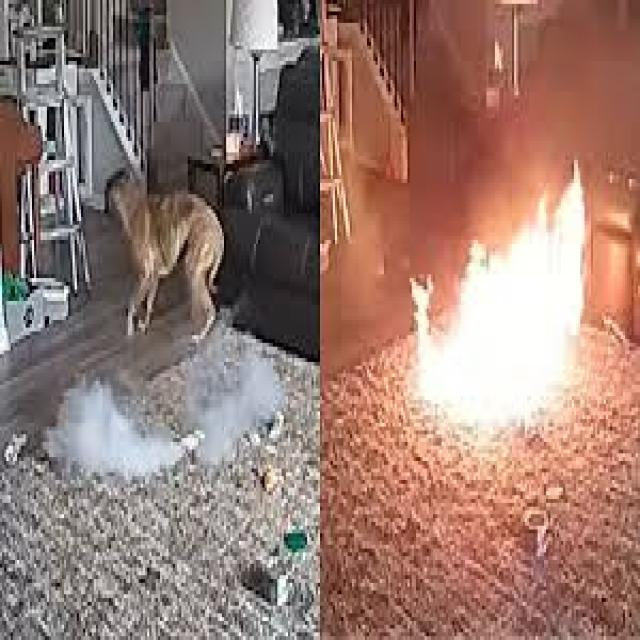fire: (409, 159, 587, 434)
